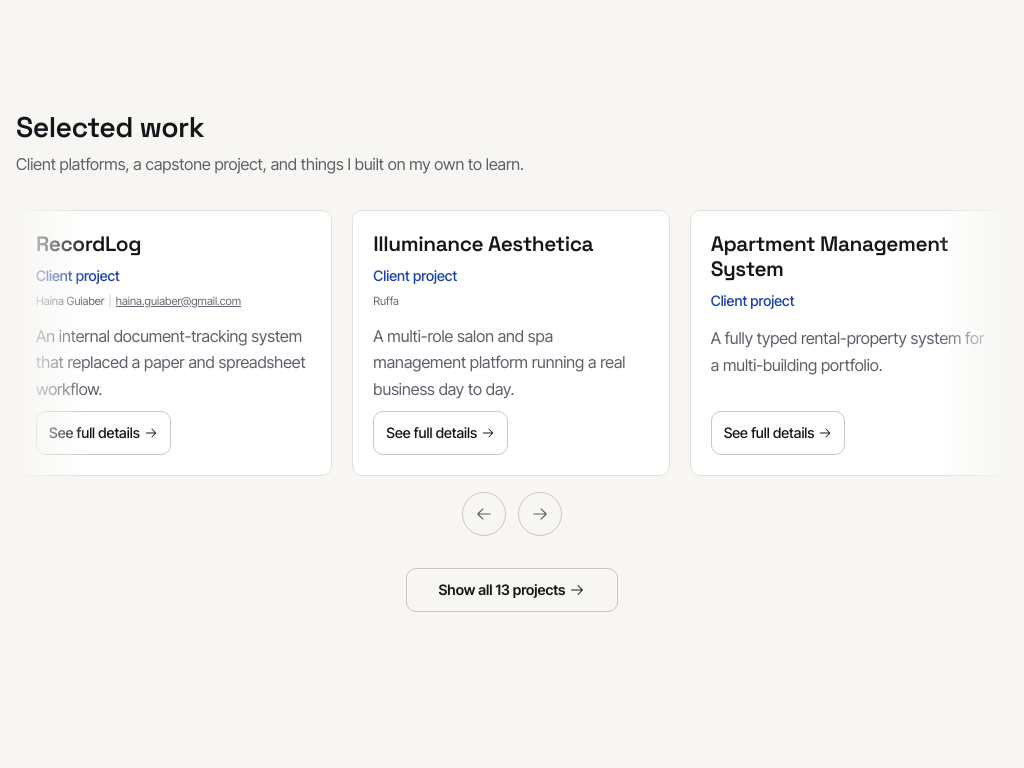
Test: Projects › opens the full list in a dialog rather than below the carousel
Click the button "Show all 13 projects".
click(512, 590)  # box [406,568,618,612]
(page scrolled)
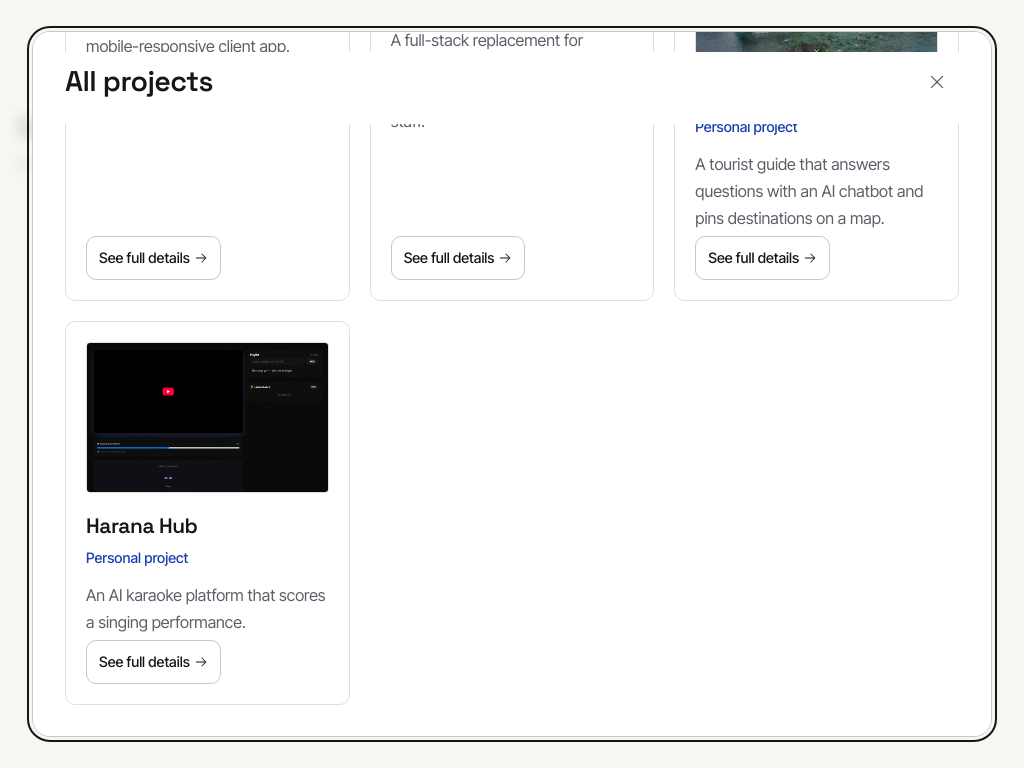
Now the heading "Harana Hub" is shown, box [86,512,198,539]
